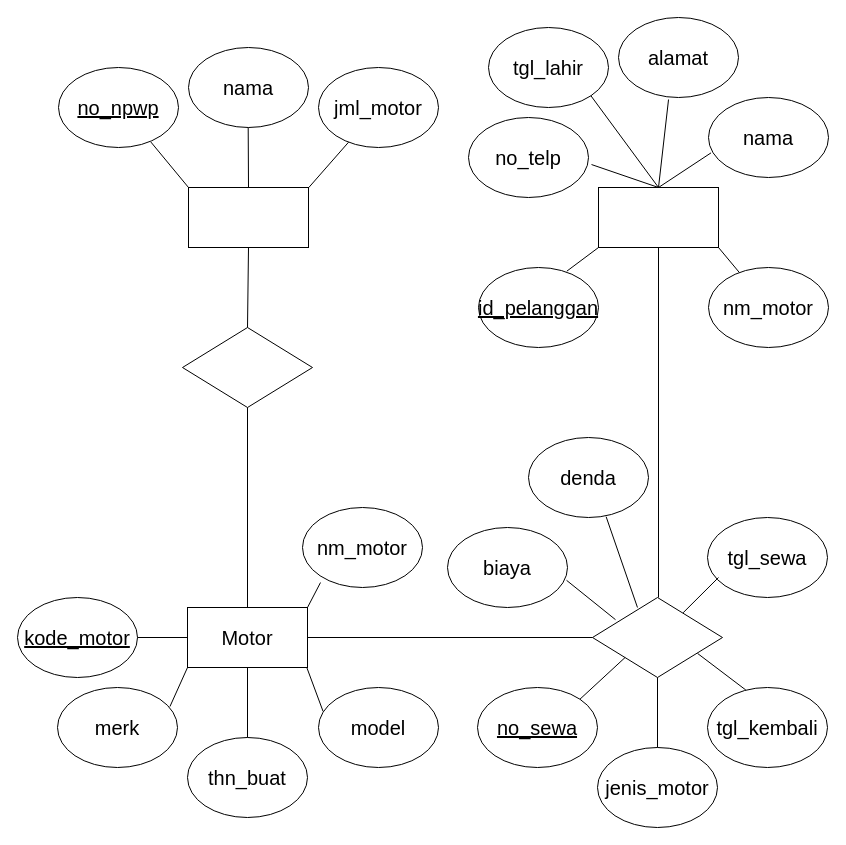
The diagram is 846 pixels wide and 845 high, and some of its shapes have lost their labels. Here are the shapes that lost their labels. From the top down, the box of each, then its label:
(188, 186, 308, 248): Rental
(598, 186, 718, 248): Pelanggan
(182, 326, 312, 408): Memiliki
(592, 596, 722, 678): Sewa
